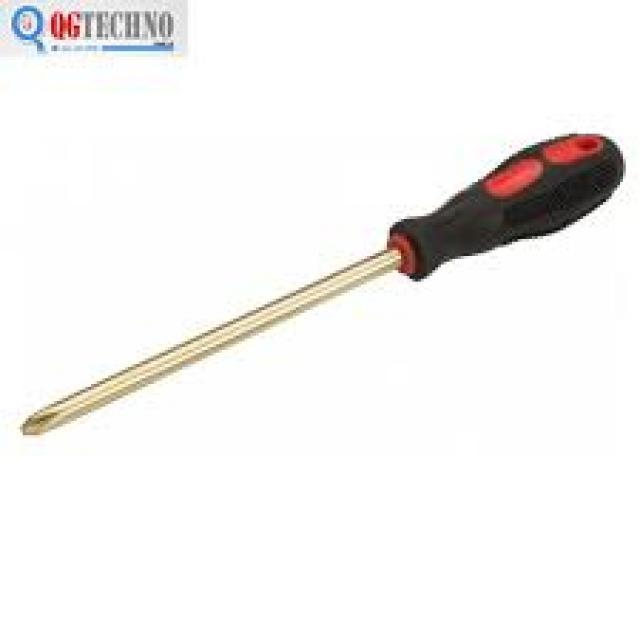screwdriver: (14, 124, 632, 442)
